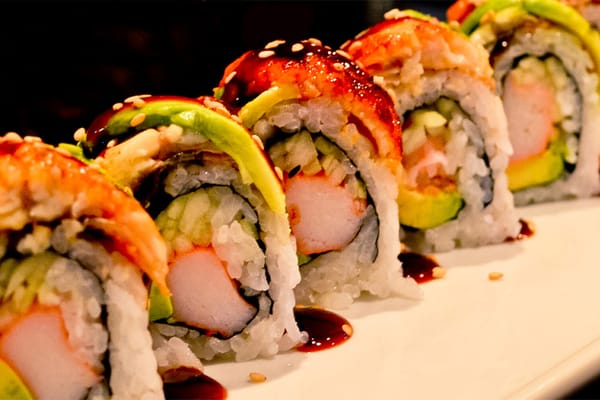soup: (71, 93, 305, 367), (217, 37, 413, 308), (0, 131, 173, 394), (339, 11, 523, 251)
